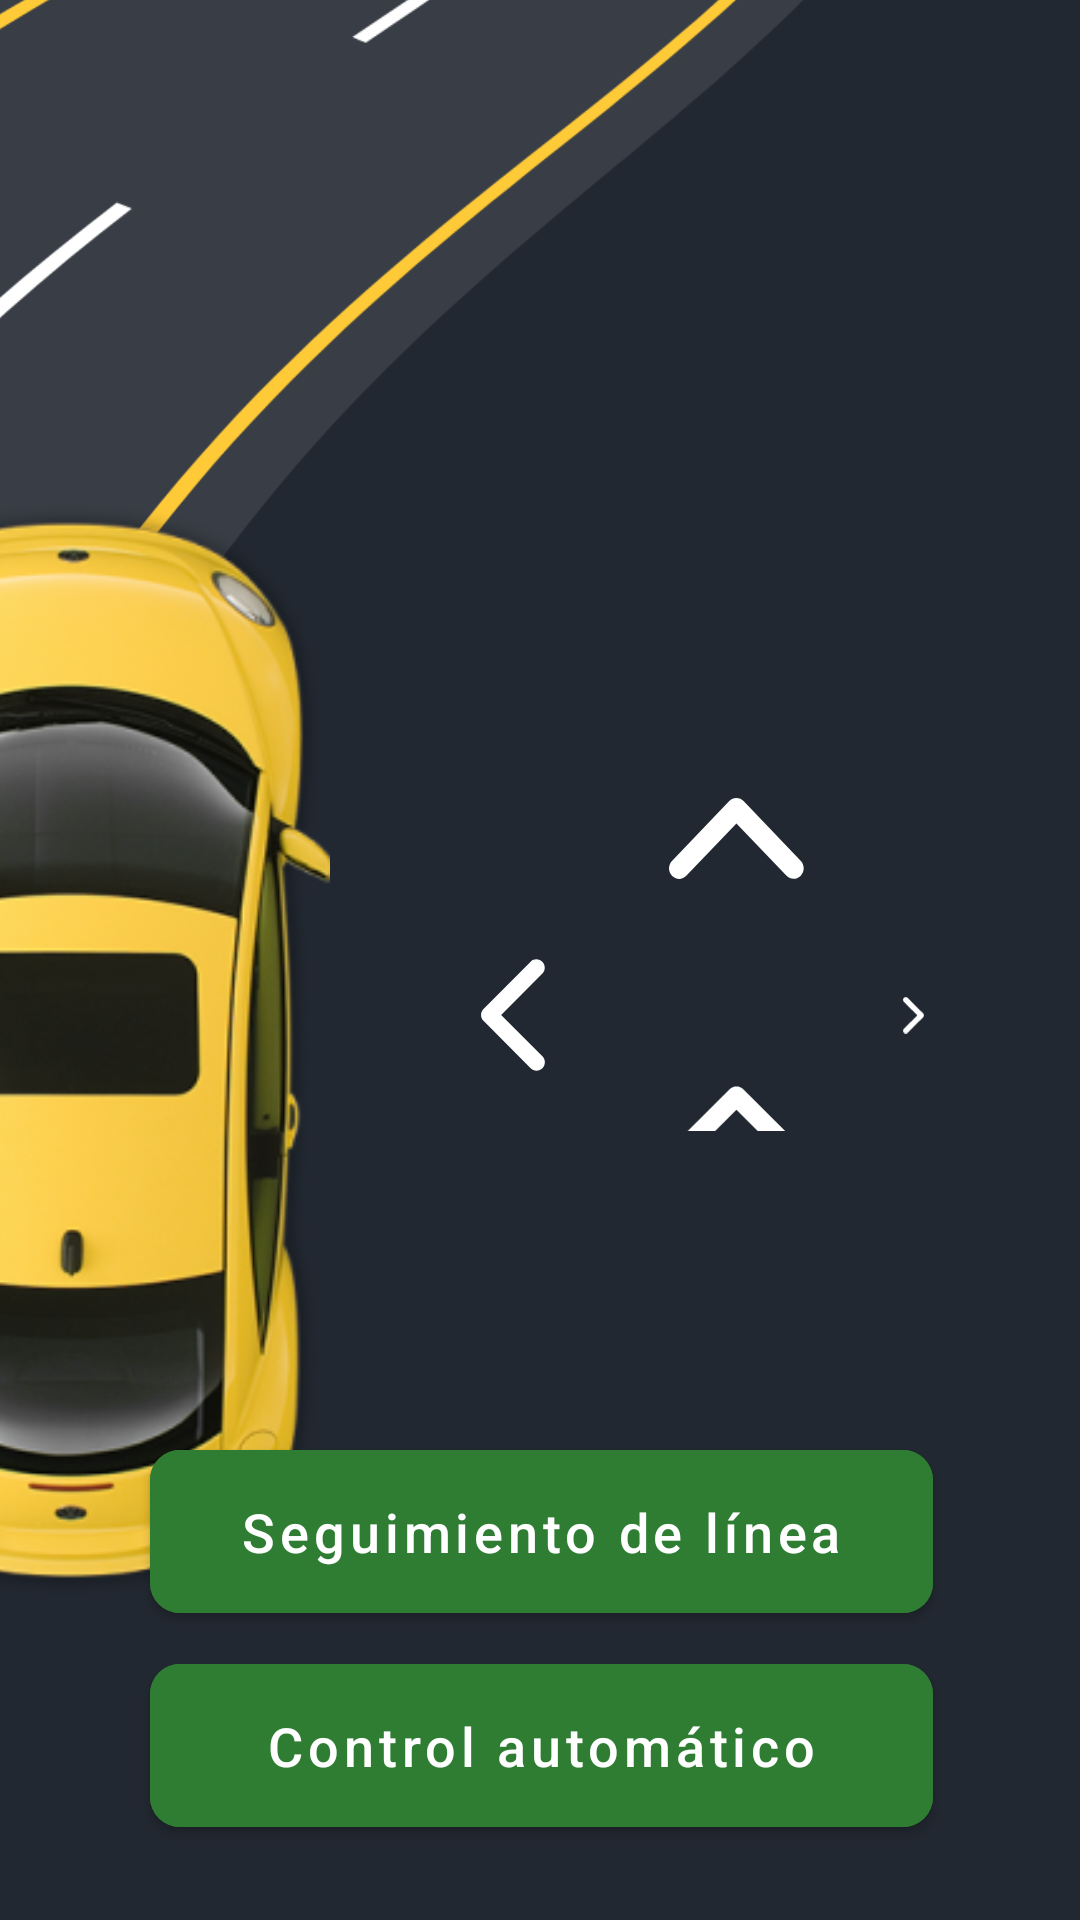

Icon click points for this 1080×1920 phone screenshot, format [x,y]:
left arrow: [513,1015]
right arrow: [913,1015]
up arrow: [736,838]
